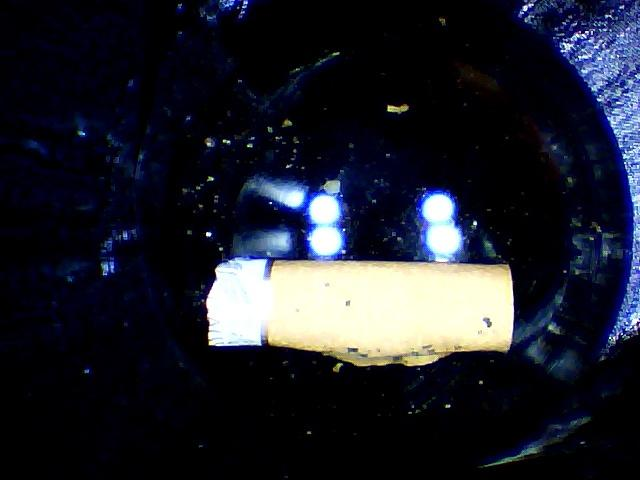megot: (196, 245, 523, 378)
